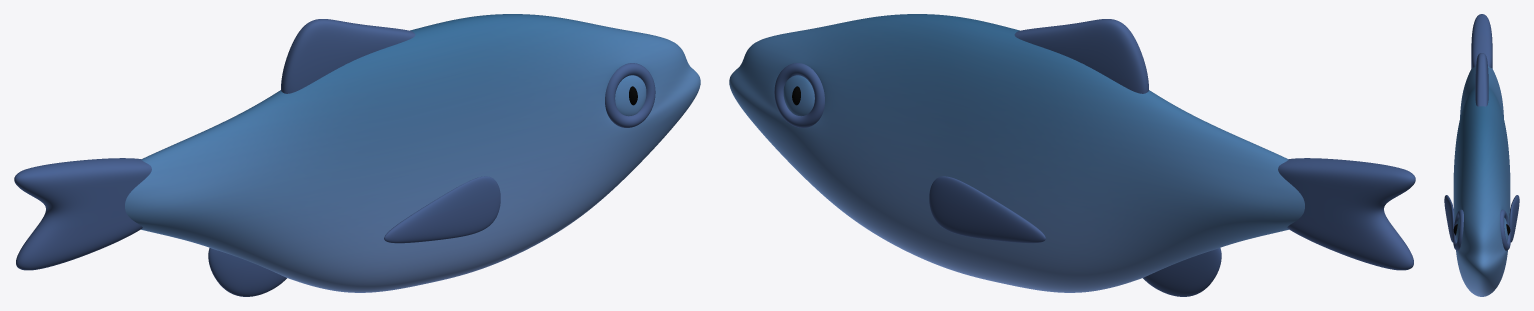
Rendered from Fih.fbx.
The picture shows the model from 3 angles, left to right: view 1: azimuth 30°, elevation 25°; view 2: azimuth 150°, elevation 25°; view 3: azimuth 270°, elevation 25°; orthographic projection. The views are drawn at different scales.
Parts seen in each view (by area): view 1: Cube.002; view 2: Cube.002; view 3: Cube.002.
Part boxes in pixels (left/top/right/bottom): Cube.002: left=14, top=14, right=700, bottom=296; Cube.002: left=729, top=14, right=1415, bottom=296; Cube.002: left=1444, top=14, right=1519, bottom=296.
Bounding box in the file's own units: 99.38 × 39.86 × 14.96.
Materials: 2 (1 with a texture image).
